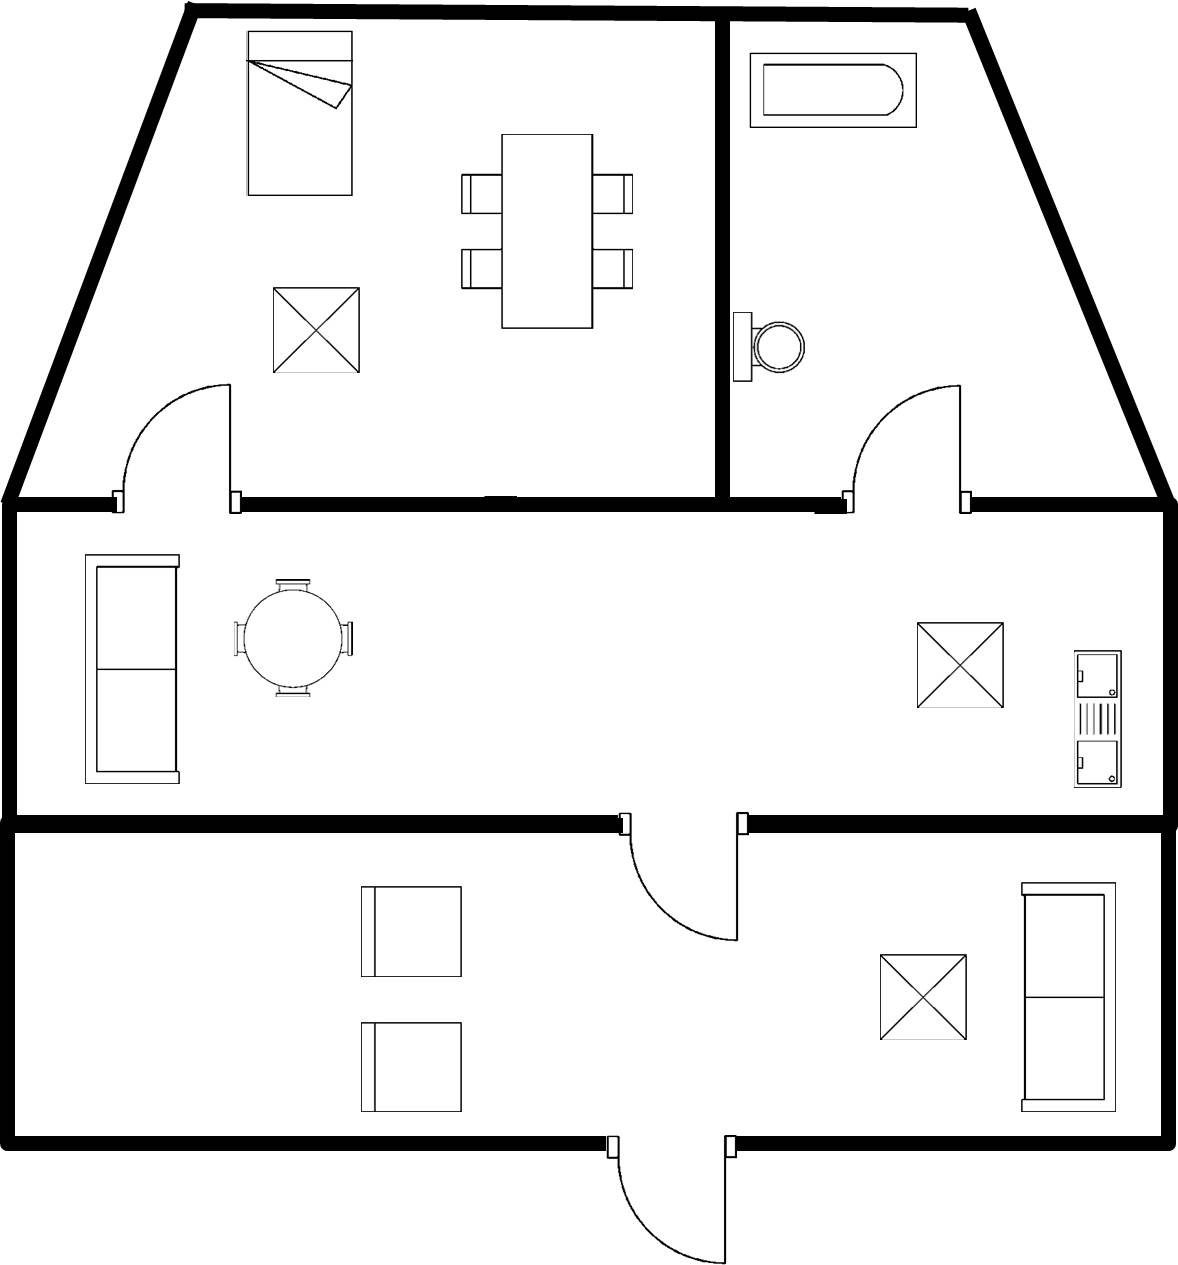bed: (235, 22, 363, 205)
coffee_table: (260, 278, 376, 386), (869, 942, 979, 1051), (904, 614, 1015, 721)
dining_table: (452, 125, 639, 347)
large_sink: (728, 301, 815, 386)
large_sofa: (1007, 868, 1131, 1121), (74, 547, 195, 802)
round_table: (226, 567, 363, 707)
small_sofa: (347, 874, 472, 986), (349, 1015, 472, 1122)
tub: (736, 46, 935, 137)
twin_sink: (1065, 642, 1137, 795)
